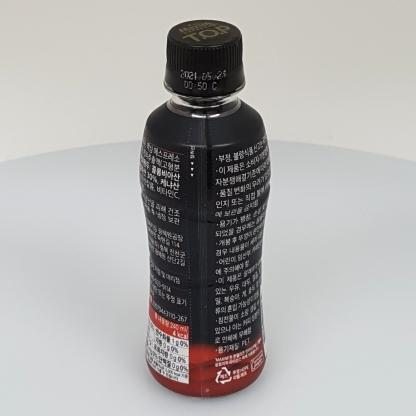--TOP--------240ML: (139, 19, 271, 399)
